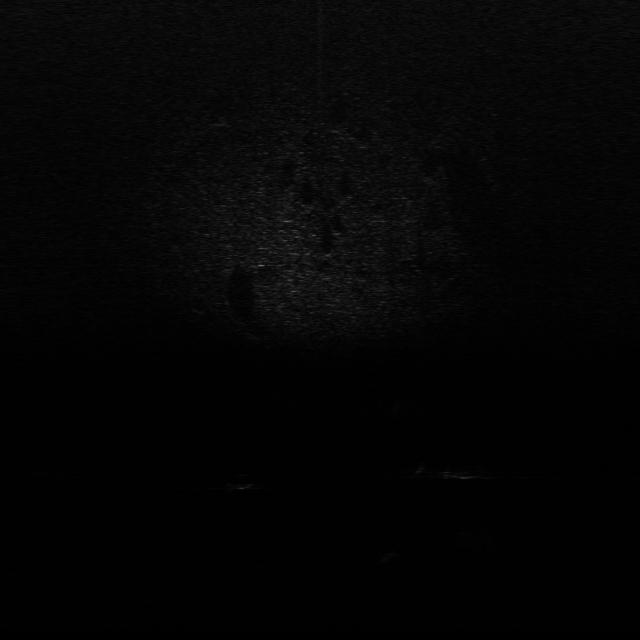ball: (227, 471, 254, 494)
circle cage: (457, 529, 522, 570)
human body: (419, 459, 503, 486)
